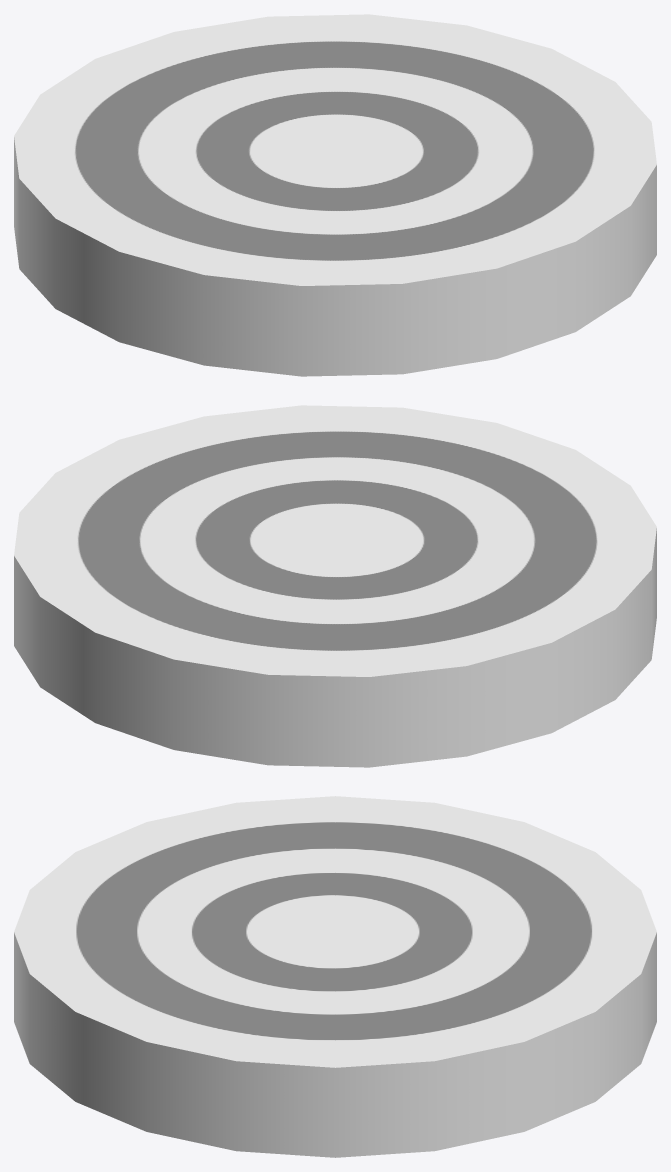
The model's file is chakers.fbx.
3 renders of one model, top to bottom at view 1: azimuth 30°, elevation 25°; view 2: azimuth 150°, elevation 25°; view 3: azimuth 270°, elevation 25°, orthographic.
Parts seen in each view (by area): view 1: pCylinder1; view 2: pCylinder1; view 3: pCylinder1.
Part boxes in pixels (box(x1,y1,x2,y2)): pCylinder1: box(14, 14, 656, 376); pCylinder1: box(14, 405, 656, 767); pCylinder1: box(14, 796, 656, 1157).
Bounding box in the file's own units: 3.36 × 0.5191 × 3.36.
